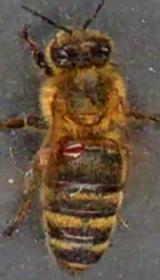varroa_mite: (57, 137, 88, 161)
